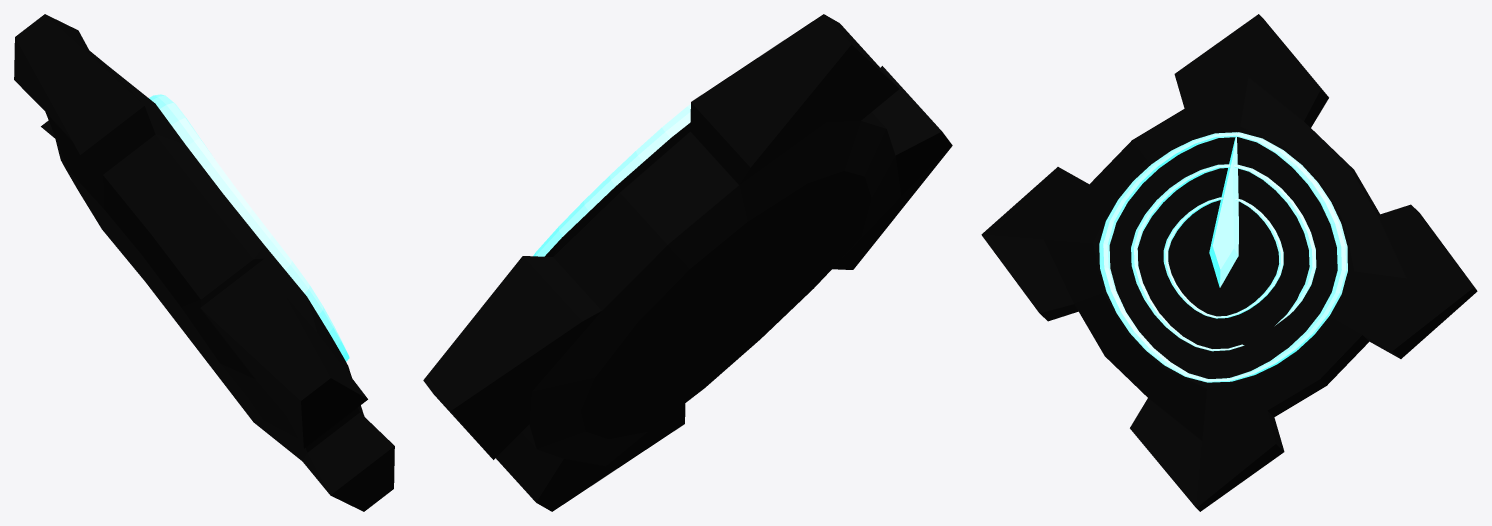
File: compass off.fbx
The picture shows the model from 3 angles, left to right: view 1: azimuth 30°, elevation 25°; view 2: azimuth 150°, elevation 25°; view 3: azimuth 270°, elevation 25°; orthographic projection. The views are drawn at different scales.
Visible parts, largest first — view 1: Cylinder.001, Cylinder.002; view 2: Cylinder.001, Cylinder.002; view 3: Cylinder.001, Cylinder.002, Cylinder.003, Plane, Cylinder.004.
Part boxes in pixels (x1=…): Cylinder.001: x1=14, y1=14, x2=394, y2=511; Cylinder.002: x1=149, y1=94, x2=349, y2=361; Cylinder.001: x1=423, y1=14, x2=952, y2=511; Cylinder.002: x1=533, y1=104, x2=690, y2=256; Cylinder.001: x1=981, y1=14, x2=1477, y2=511; Cylinder.002: x1=1099, y1=132, x2=1347, y2=382; Cylinder.003: x1=1131, y1=164, x2=1316, y2=351; Plane: x1=1209, y1=137, x2=1238, y2=287; Cylinder.004: x1=1163, y1=197, x2=1283, y2=318.
Size of the model in its own units: 45.85 by 70.44 by 79.81.
